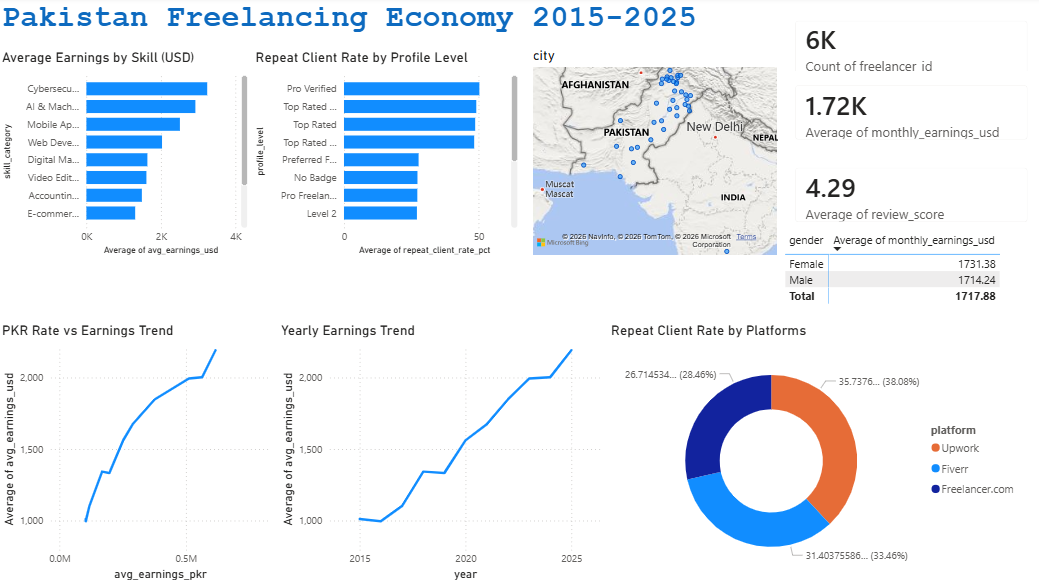

The dashboard page shown, as its layout file describes it:
{"tool":"powerbi","page":{"name":"Page 1","canvas":[1280,720],"ordinal":0},"visuals":[{"type":"barChart","title":"Average Earnings by Skill (USD)","fields":{"Category":["summary_skills.skill_category"],"Y":["Avg(summary_skills.avg_earnings_usd)"]},"box":[0,64.3,310.7,257.3],"z":0},{"type":"lineChart","title":"Yearly Earnings Trend","fields":{"Category":["summary_yearly.year"],"Y":["Avg(summary_yearly.avg_earnings_usd)"]},"box":[341.9,398.9,404.4,321.7],"z":1000},{"type":"map","fields":{"Category":["summary_city.city"]},"box":[650.7,62.5,308.8,259.2],"z":2000},{"type":"donutChart","title":"Repeat Client Rate by Platforms","fields":{"Category":["summary_platform.platform"],"Y":["Sum(summary_platform.avg_repeat_client)"]},"box":[746.3,398.9,512.9,321.7],"z":3000},{"type":"pivotTable","fields":{"Rows":["freelancing_cleaned.gender"],"Values":["Avg(freelancing_cleaned.monthly_earnings_usd)"]},"box":[959.5,283.1,299.6,115.8],"z":4000},{"type":"barChart","title":"Repeat Client Rate by Profile Level","fields":{"Category":["freelancing_cleaned.profile_level"],"Y":["Avg(freelancing_cleaned.repeat_client_rate_pct)"]},"box":[310.7,64.3,330.9,257.3],"z":5000},{"type":"lineChart","title":"PKR Rate vs Earnings Trend","fields":{"Y":["Avg(summary_yearly.avg_earnings_usd)"],"Category":["summary_yearly.avg_earnings_pkr"]},"box":[0,398.9,341.9,321.7],"z":5001},{"type":"cardVisual","fields":{"Data":["CountNonNull(freelancing_cleaned.freelancer_id)"]},"box":[959.5,12.9,319.8,99.3],"z":5002},{"type":"cardVisual","fields":{"Data":["Avg(freelancing_cleaned.monthly_earnings_usd)"]},"box":[959.5,91.9,319.8,101.1],"z":5003},{"type":"cardVisual","fields":{"Data":["Avg(freelancing_cleaned.review_score)"]},"box":[959.5,193,319.8,101.1],"z":5004},{"type":"textbox","box":[0,0,862.1,64.3],"z":5005}]}

Visuals, with their boxes in screenshot pixels (x1, y1, x2, y2), scaled from the page's 1280x720 canvas onto the 1039x580 screenshot:
"Average Earnings by Skill (USD)" barChart: bbox(0, 52, 252, 259)
"Yearly Earnings Trend" lineChart: bbox(278, 321, 606, 579)
map - summary_city.city: bbox(528, 50, 779, 259)
"Repeat Client Rate by Platforms" donutChart: bbox(606, 321, 1022, 579)
pivotTable - freelancing_cleaned.gender x Avg(freelancing_cleaned.monthly_earnings_usd): bbox(779, 228, 1022, 321)
"Repeat Client Rate by Profile Level" barChart: bbox(252, 52, 521, 259)
"PKR Rate vs Earnings Trend" lineChart: bbox(0, 321, 278, 579)
cardVisual - CountNonNull(freelancing_cleaned.freelancer_id): bbox(779, 10, 1038, 90)
cardVisual - Avg(freelancing_cleaned.monthly_earnings_usd): bbox(779, 74, 1038, 155)
cardVisual - Avg(freelancing_cleaned.review_score): bbox(779, 155, 1038, 237)
textbox: bbox(0, 0, 700, 52)
